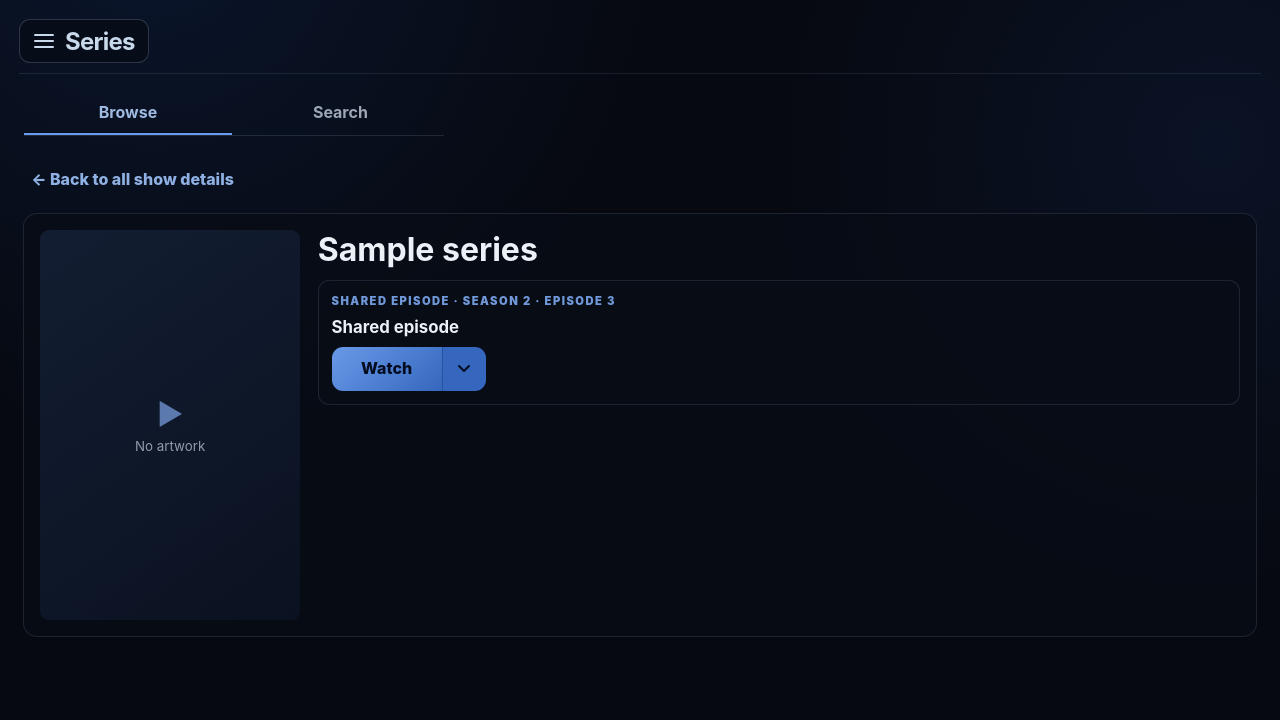
Test case: opens and refreshes the shared series episode and season
This screenshot has width=1280, height=720.
Expected: the button "Watch" is shown, x1=332 y1=347 x2=442 y2=391
Expected: the heading "Shared episode" is shown, x1=332 y1=317 x2=459 y2=337
Click the button "← Back to all show details" at (133, 179), box x1=23 y1=157 x2=242 y2=201
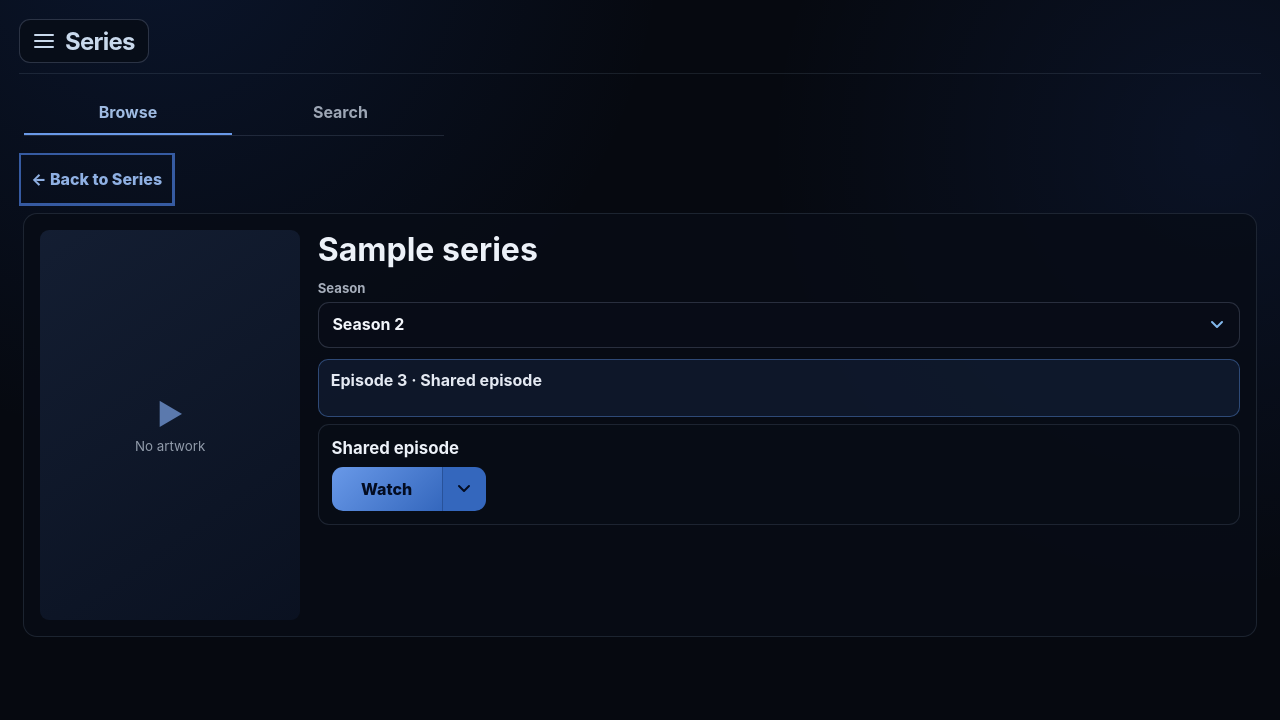
Now the dropdown labelled "Season" is shown, box x1=318 y1=302 x2=1240 y2=348
